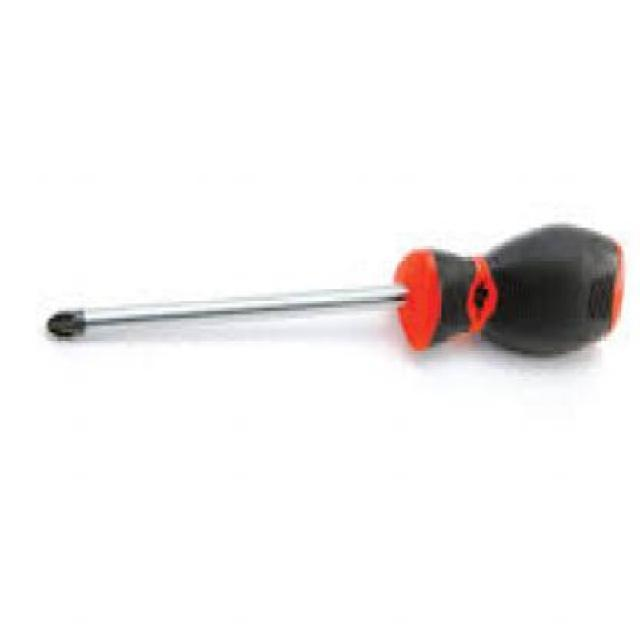screwdriver: (47, 224, 627, 373)
